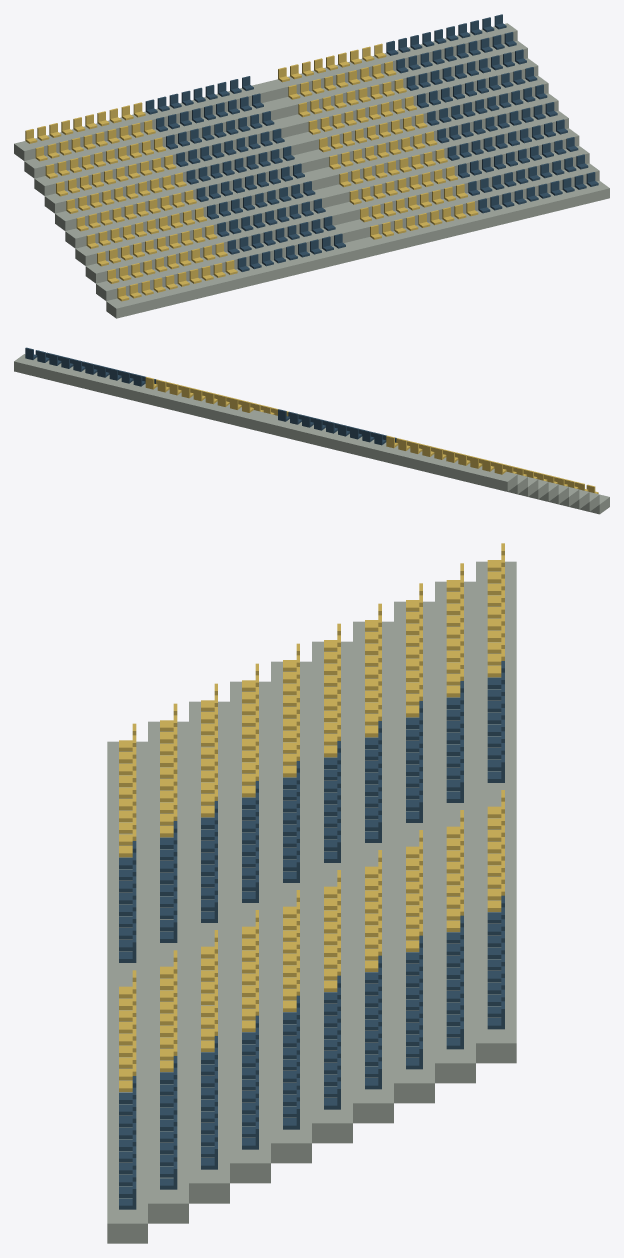
The model's file is tribuna-maket.glb.
3 renders of one model, top to bottom at view 1: azimuth 30°, elevation 25°; view 2: azimuth 150°, elevation 25°; view 3: azimuth 270°, elevation 25°, orthographic. The views are drawn at different scales.
Visible parts, largest first — view 1: Синие кресла, Жёлтые кресла, Ряд 1, Ряд 4, Ряд 8, Ряд 3, Ряд 7, Ряд 6, Ряд 5, Ряд 2, Ряд 9, Ряд 10; view 2: Ряд 10, Жёлтые кресла, Синие кресла; view 3: Синие кресла, Жёлтые кресла, Ряд 1, Ряд 2, Ряд 3, Ряд 4, Ряд 5, Ряд 6, Ряд 7, Ряд 8, Ряд 9, Ряд 10.
Boxes of the visible parts, box(x1,y1,x2,y2) form: Синие кресла: box(145, 14, 598, 271); Жёлтые кресла: box(25, 43, 478, 301); Ряд 1: box(106, 181, 609, 318); Ряд 4: box(75, 128, 579, 265); Ряд 8: box(34, 58, 538, 195); Ряд 3: box(85, 146, 589, 283); Ряд 7: box(44, 76, 548, 213); Ряд 6: box(55, 93, 558, 230); Ряд 5: box(65, 110, 568, 248); Ряд 2: box(96, 163, 599, 300); Ряд 9: box(24, 40, 527, 178); Ряд 10: box(14, 23, 517, 160); Ряд 10: box(14, 354, 517, 491); Жёлтые кресла: box(145, 377, 598, 493); Синие кресла: box(25, 347, 407, 445); Синие кресла: box(119, 661, 504, 1209); Жёлтые кресла: box(119, 543, 504, 1091); Ряд 1: box(107, 741, 147, 1243); Ряд 2: box(148, 721, 188, 1223); Ряд 3: box(189, 701, 229, 1203); Ряд 4: box(230, 681, 270, 1183); Ряд 5: box(271, 661, 311, 1163); Ряд 6: box(312, 641, 352, 1143); Ряд 7: box(353, 621, 393, 1123); Ряд 8: box(394, 601, 434, 1103); Ряд 9: box(435, 581, 475, 1083); Ряд 10: box(476, 561, 516, 1063).
Size of the model in its own units: 32 by 7.01 by 11.5.
